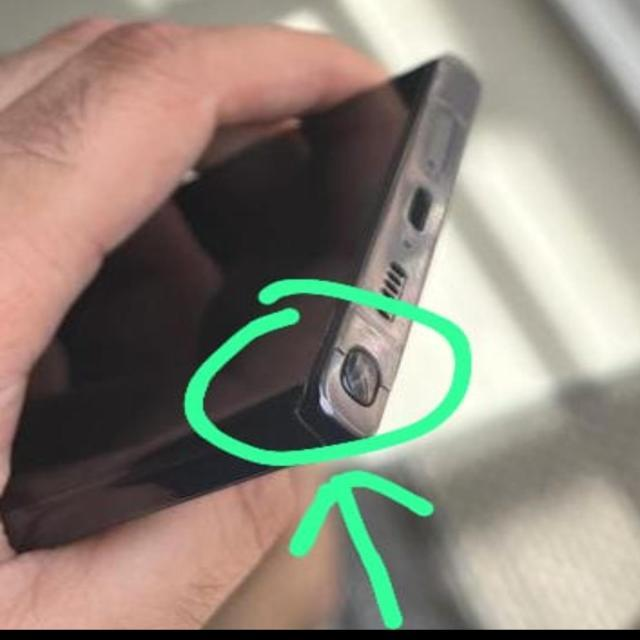Dents: (322, 324, 403, 434)
